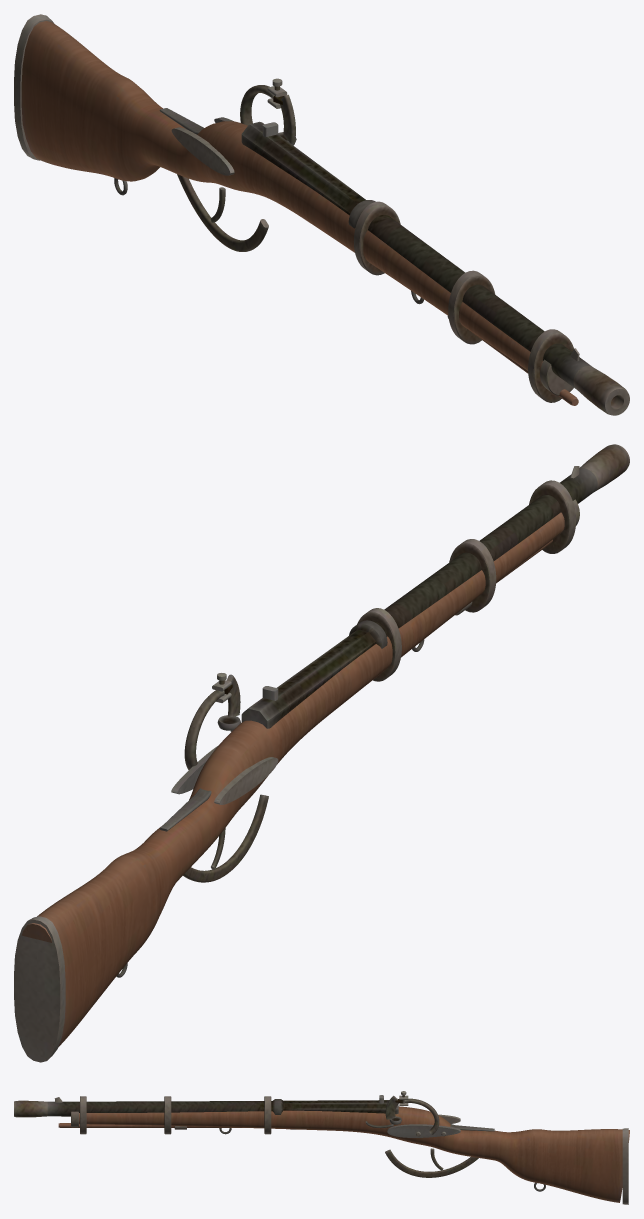
Rendered from flintlock.glb.
3 renders of one model, top to bottom at view 1: azimuth 30°, elevation 25°; view 2: azimuth 150°, elevation 25°; view 3: azimuth 270°, elevation 25°, orthographic. The views are drawn at different scales.
Visible parts, largest first — view 1: flintlock_body, muzzle, hammer; view 2: flintlock_body, hammer, muzzle; view 3: flintlock_body, muzzle, hammer.
Boxes of the visible parts, x1,y1,x2,y2 form: flintlock_body: (14,14,591,405); muzzle: (573,366,629,415); hammer: (240,78,287,125); flintlock_body: (14,466,597,1062); hammer: (184,673,232,769); muzzle: (579,444,629,491); flintlock_body: (47,1095,629,1204); muzzle: (14,1100,47,1117); hammer: (395,1091,439,1134).
Bounding box in the file's own units: 0.067 × 0.233 × 1.09.
1 material, 1 textured.
